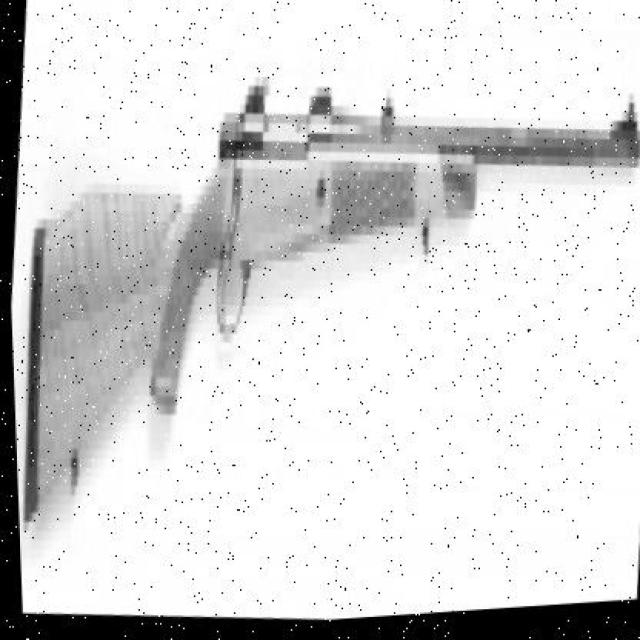weapon: (21, 84, 640, 531)
